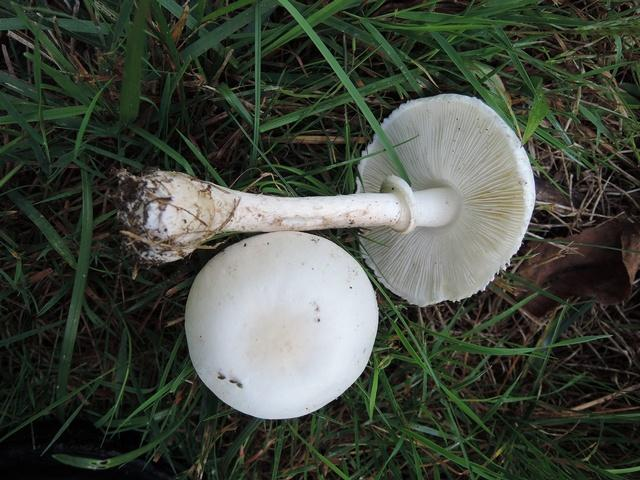Non-edible Mushroom: (353, 92, 536, 307), (183, 229, 379, 420)
